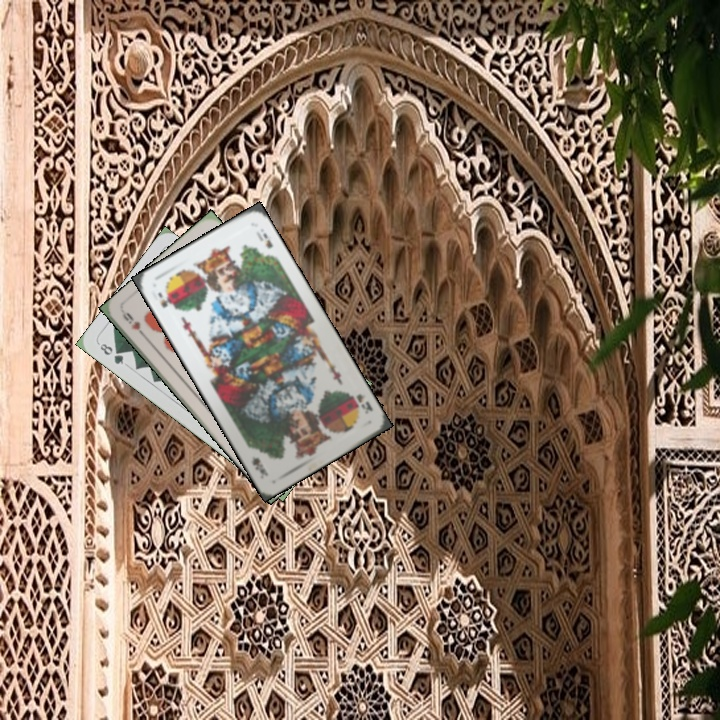G8: (96, 339, 126, 367)
H9: (118, 307, 150, 341)
SK: (352, 390, 376, 416), (154, 288, 174, 310)
